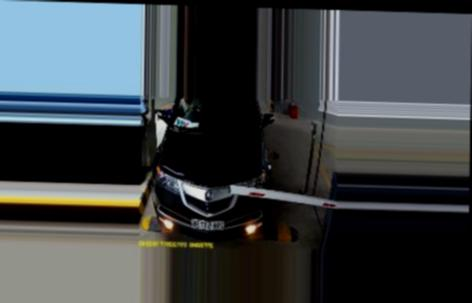License_Plate: (192, 218, 224, 232)
